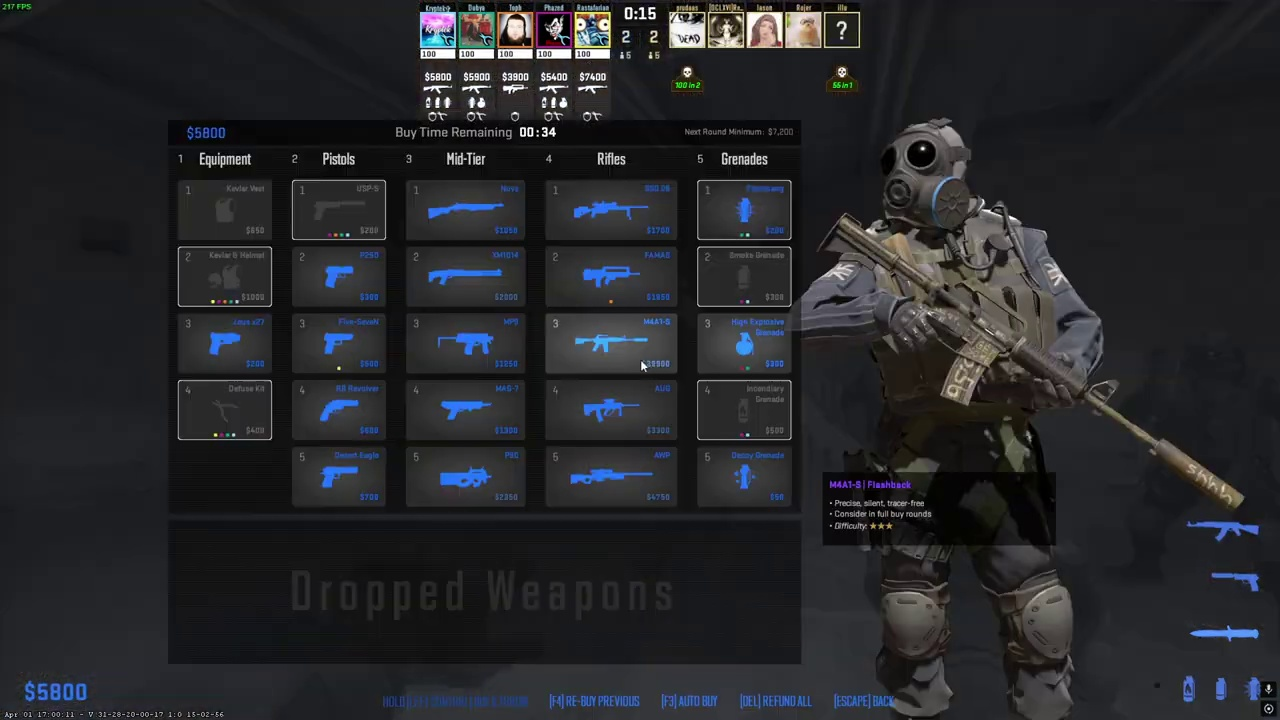CT: (852, 121, 1089, 720)
